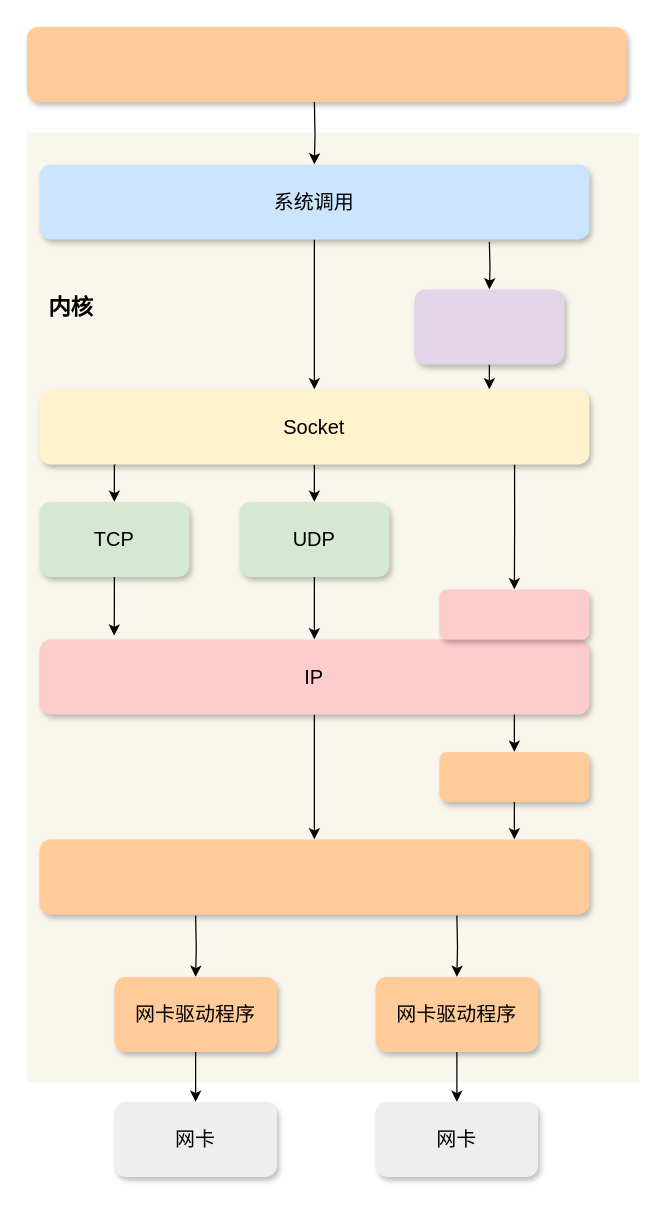
Some shapes in this 660 by 1206 pixel diagram are drawn without their labels. The centre of each missing label's shape, as x and y in pixels:
"ARP" belongs at (515,778).
"ICMP" belongs at (515,616).
"LVS" belongs at (490,328).
"MAC" belongs at (315,878).
"应用程序" belongs at (327,65).
